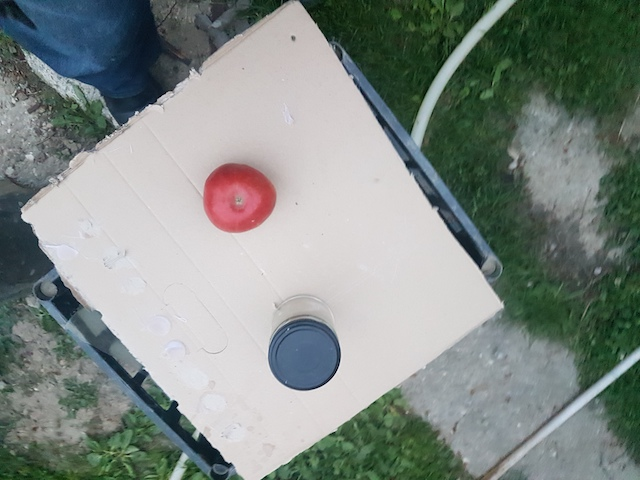apple: (203, 162, 278, 233)
recipient: (266, 321, 343, 391)
